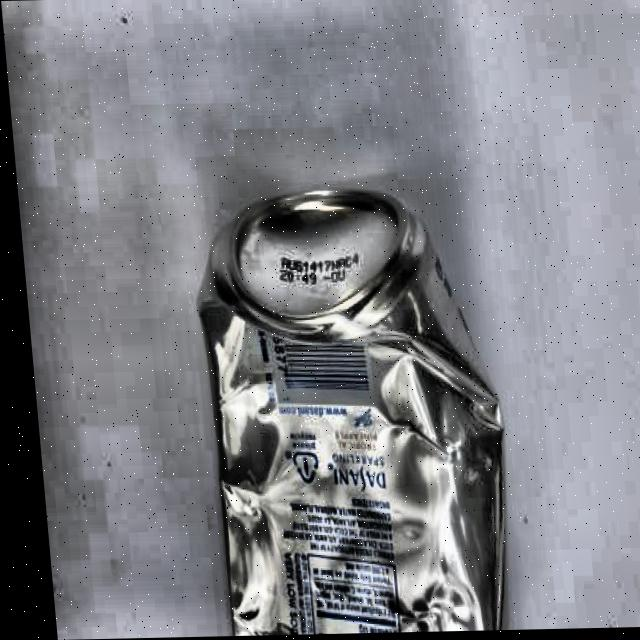metal: (186, 182, 525, 636)
